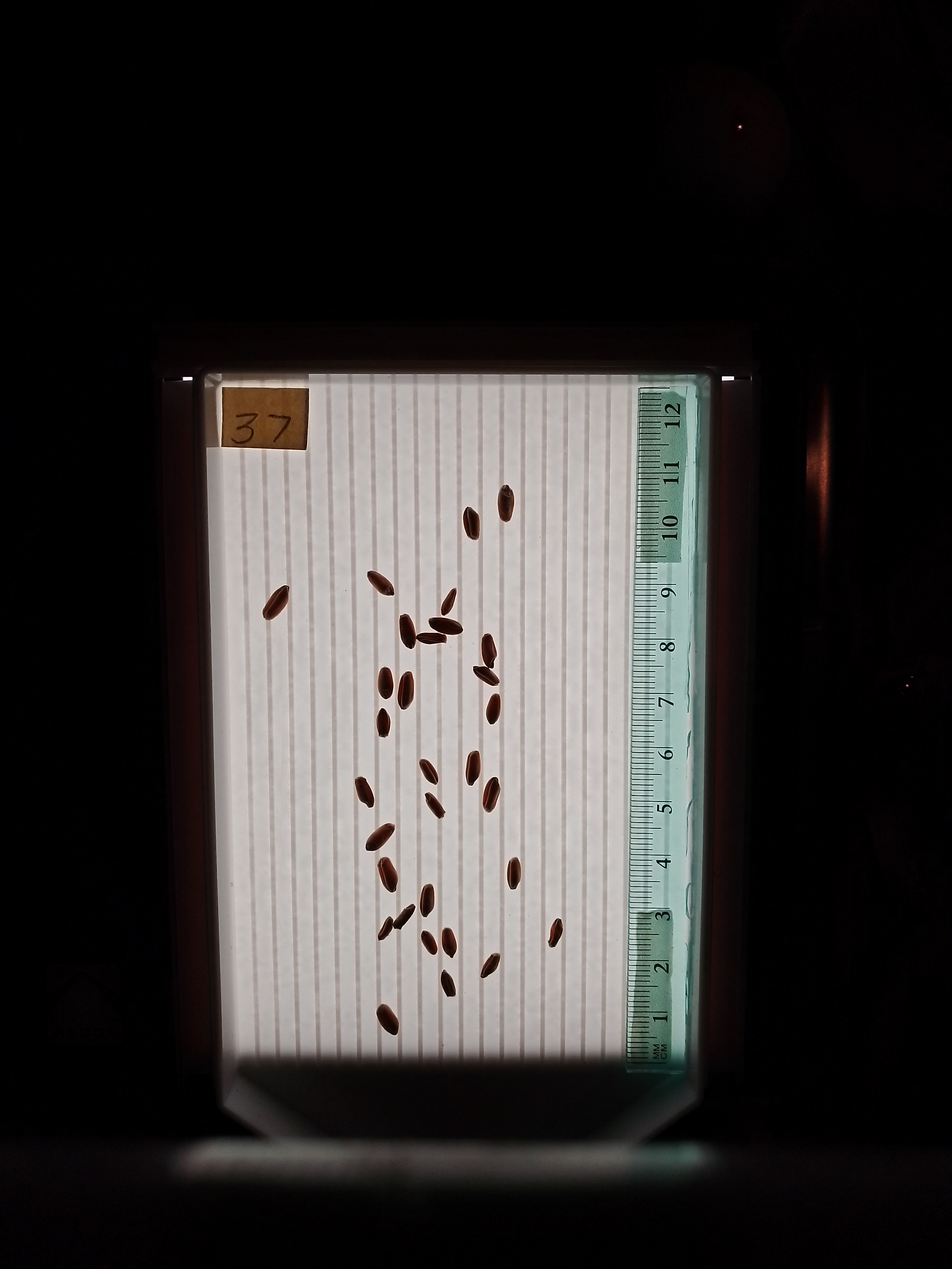seed mask: (263, 586, 289, 620), (365, 823, 394, 852), (377, 1004, 400, 1035), (379, 858, 398, 892), (368, 571, 394, 595), (429, 616, 462, 634), (355, 776, 374, 807), (498, 485, 514, 521), (398, 673, 414, 709), (399, 615, 416, 648), (483, 779, 500, 812), (394, 904, 415, 930), (462, 508, 479, 540), (425, 793, 445, 818), (481, 634, 497, 665), (466, 752, 481, 785), (474, 666, 499, 685), (378, 667, 393, 698), (420, 884, 435, 915), (486, 694, 501, 724), (420, 759, 438, 784), (481, 954, 500, 977), (507, 858, 521, 889), (442, 929, 457, 956), (421, 931, 438, 954), (376, 710, 390, 737), (549, 920, 563, 947), (441, 590, 456, 615), (418, 632, 446, 644), (441, 972, 455, 996), (379, 918, 393, 940)
